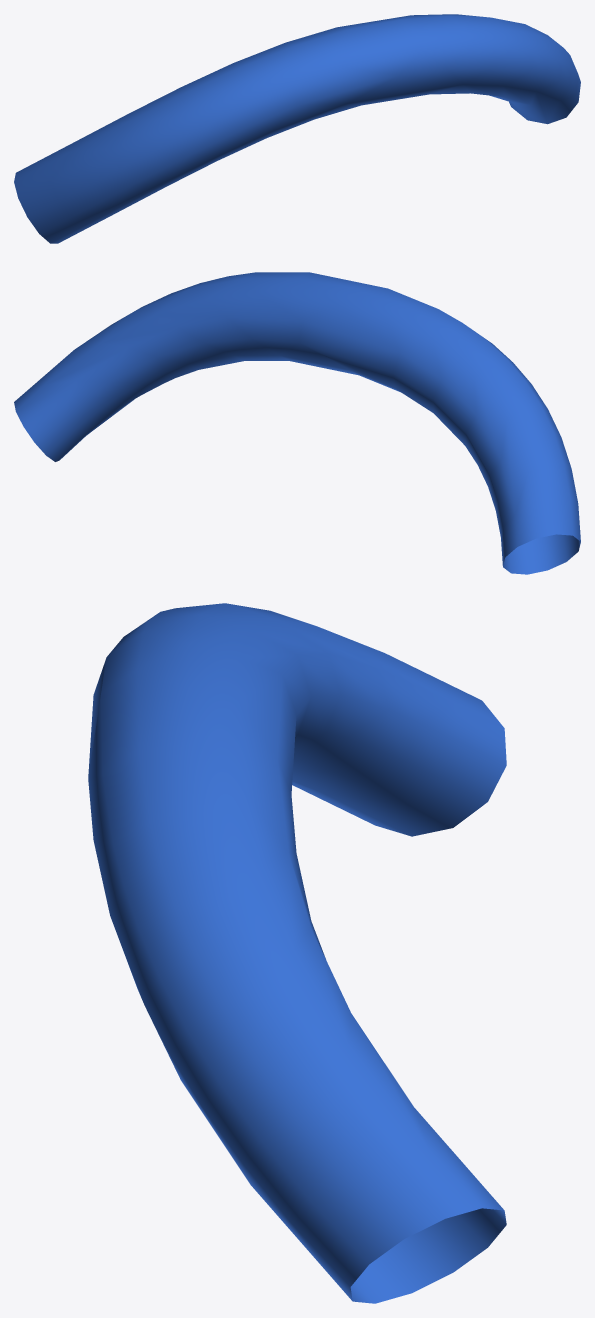
File: circulatorio-anterior-intercavernous-sinus.glb
The picture shows the model from 3 angles, top to bottom: view 1: azimuth 30°, elevation 25°; view 2: azimuth 150°, elevation 25°; view 3: azimuth 270°, elevation 25°; orthographic projection. The views are drawn at different scales.
Visible parts, largest first — view 1: Anterior intercavernous sinus; view 2: Anterior intercavernous sinus; view 3: Anterior intercavernous sinus.
Part boxes in pixels (left/top/right/bottom): Anterior intercavernous sinus: left=14, top=14, right=580, bottom=243; Anterior intercavernous sinus: left=14, top=272, right=580, bottom=574; Anterior intercavernous sinus: left=88, top=603, right=506, bottom=1303.
Size of the model in its own units: 0.00919 by 0.00299 by 0.003.
